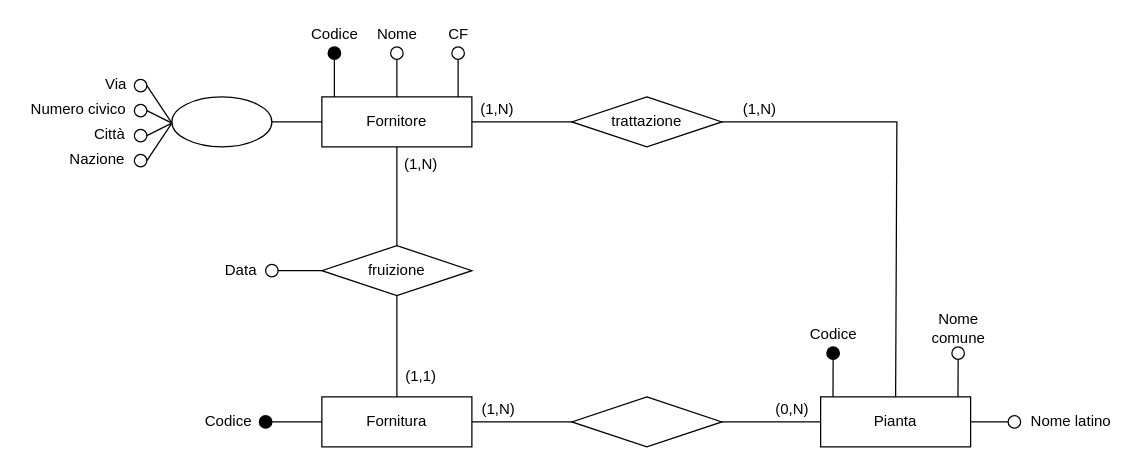
This 1141x469 diagram has some shape labels left out. The box of each missing label's shape, as (x1, y1, x2, y2) in pixels:
composizione: (571, 396, 722, 447)
Indirizzo: (171, 96, 272, 147)
